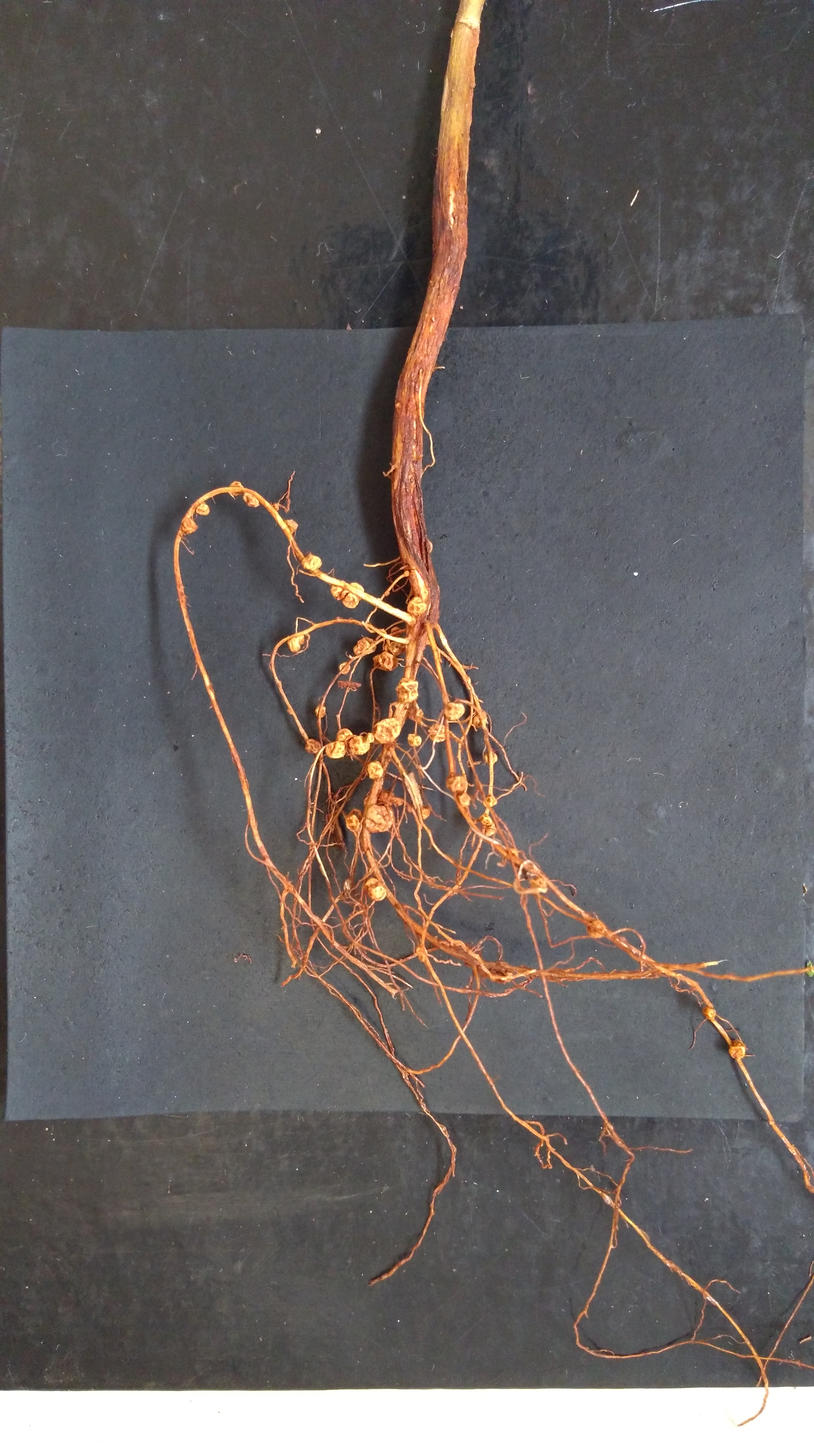nodule: (364, 803, 396, 834), (372, 717, 400, 745), (394, 677, 420, 702), (364, 877, 387, 902), (727, 1037, 750, 1060), (176, 515, 200, 537), (372, 651, 398, 671), (405, 594, 428, 616), (238, 490, 263, 510), (352, 637, 377, 657), (348, 734, 370, 756), (282, 516, 305, 537), (324, 740, 347, 760), (586, 919, 607, 940), (301, 552, 323, 572), (444, 701, 466, 721), (193, 499, 214, 519), (225, 479, 247, 498), (366, 760, 384, 782), (445, 775, 467, 793), (407, 701, 425, 723), (383, 638, 405, 656), (330, 583, 350, 602), (427, 723, 446, 743), (287, 634, 306, 653), (304, 737, 323, 756), (341, 592, 361, 610), (345, 813, 361, 834), (472, 710, 488, 729), (701, 1005, 717, 1021), (481, 794, 498, 809), (457, 793, 472, 809), (335, 727, 352, 741), (483, 750, 498, 765), (336, 661, 352, 675), (313, 704, 327, 719), (478, 812, 493, 826), (407, 733, 422, 747), (349, 580, 365, 593), (419, 806, 432, 821), (361, 732, 375, 744), (390, 626, 402, 637), (272, 501, 280, 511)
